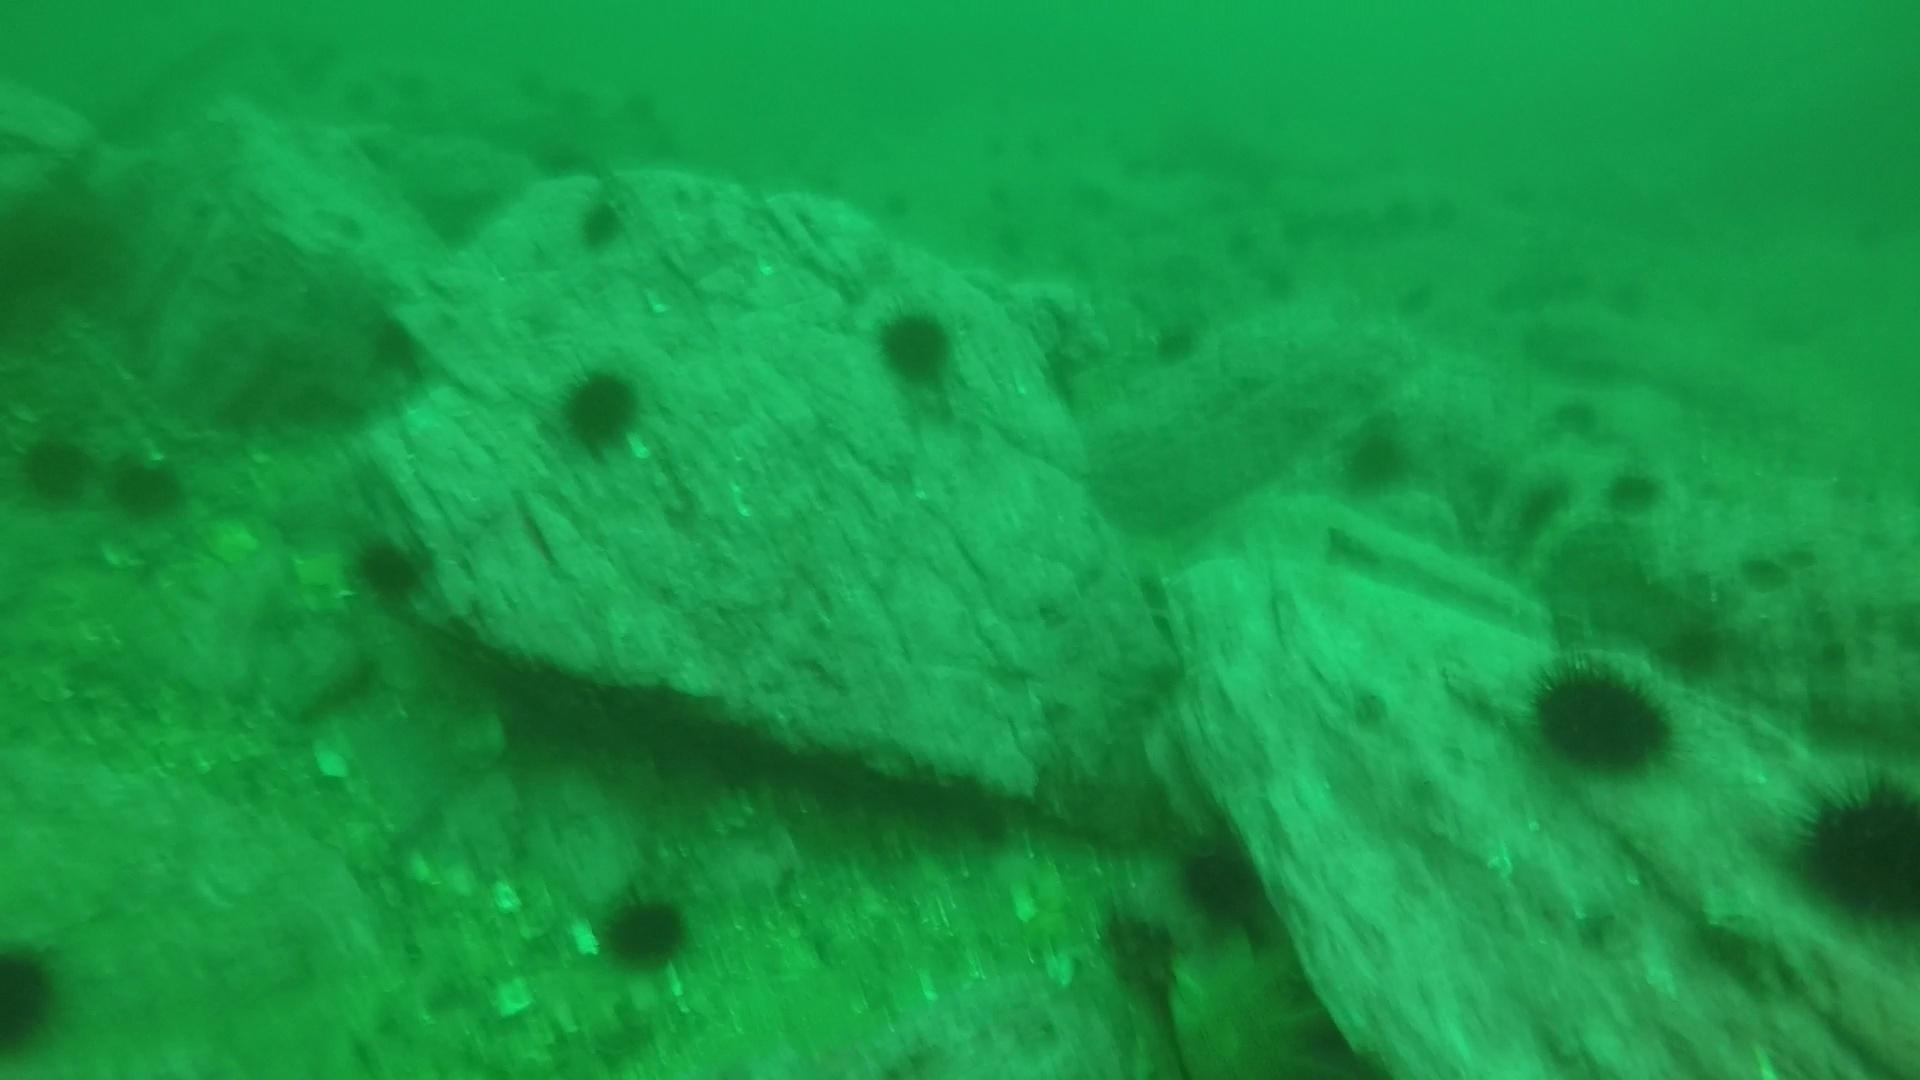echinus: (1785, 764, 1919, 928), (1522, 654, 1680, 781), (1170, 828, 1274, 936), (1091, 893, 1193, 1001), (592, 885, 698, 977), (550, 361, 649, 458), (1, 934, 69, 1059), (869, 302, 963, 392), (343, 529, 436, 611), (1332, 415, 1418, 498), (12, 426, 98, 509), (104, 448, 190, 525), (1656, 612, 1733, 684), (1509, 473, 1573, 538), (1597, 462, 1665, 520), (1539, 386, 1607, 444), (1385, 277, 1452, 335), (1594, 269, 1662, 327), (1515, 315, 1582, 373), (1472, 260, 1539, 318), (1727, 543, 1795, 601), (570, 193, 632, 255), (1147, 314, 1205, 369), (1276, 210, 1333, 253), (1427, 190, 1484, 233), (968, 170, 1025, 214), (872, 186, 928, 229), (529, 136, 585, 179), (611, 82, 667, 125), (547, 87, 604, 131), (1149, 243, 1205, 286), (1058, 173, 1114, 216), (1047, 240, 1104, 284), (1251, 258, 1309, 301), (324, 71, 382, 113), (1218, 225, 1275, 268), (976, 218, 1033, 260), (502, 59, 559, 102), (380, 61, 436, 103), (1490, 179, 1547, 222), (964, 129, 1021, 171), (1023, 121, 1080, 164), (1113, 138, 1170, 181), (1204, 183, 1261, 225), (791, 158, 848, 200)
holothurian: (1164, 907, 1373, 1080), (632, 785, 815, 914)
